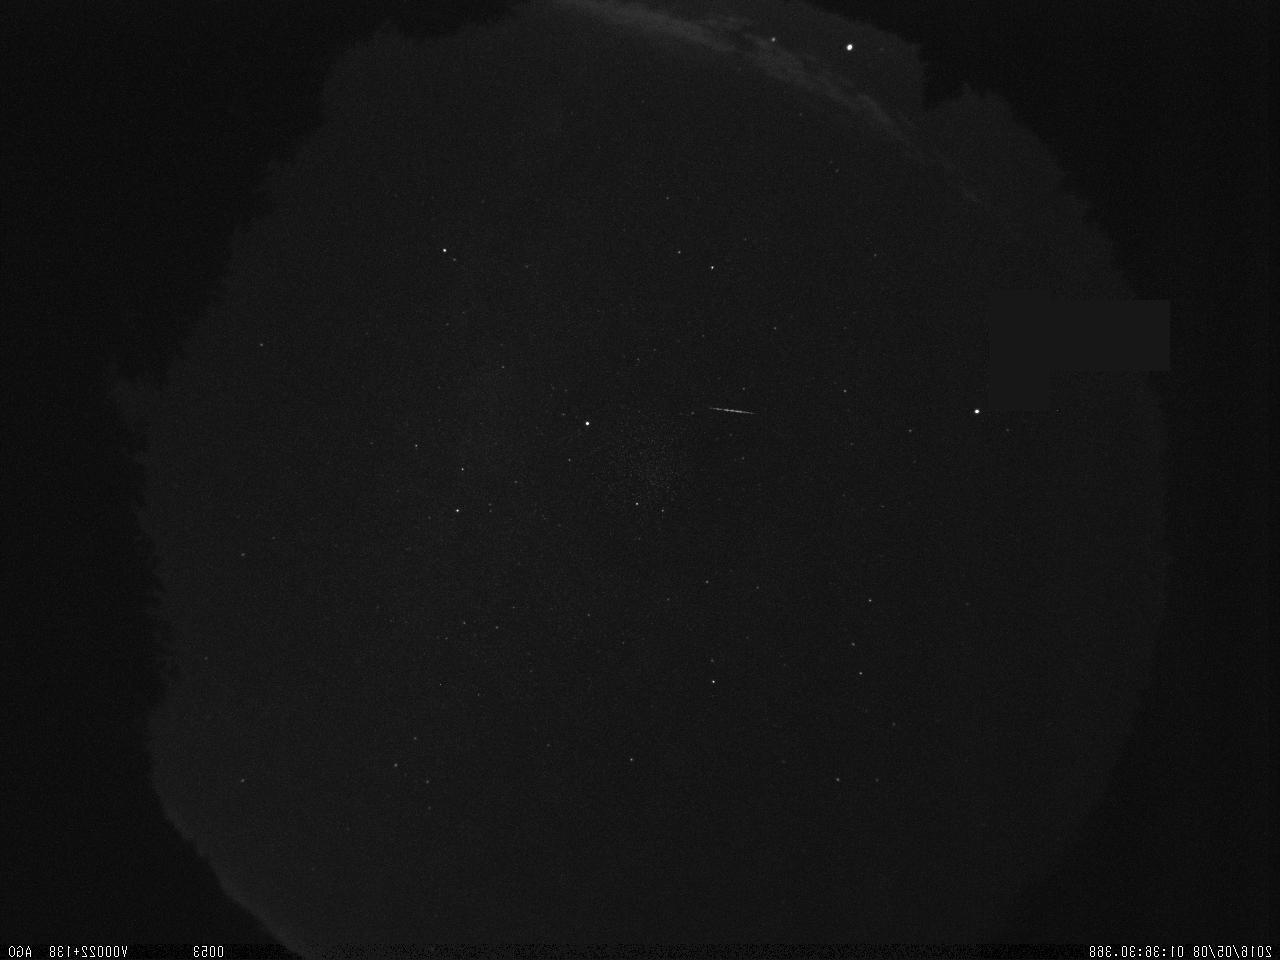meteor: (684, 392, 775, 425)
